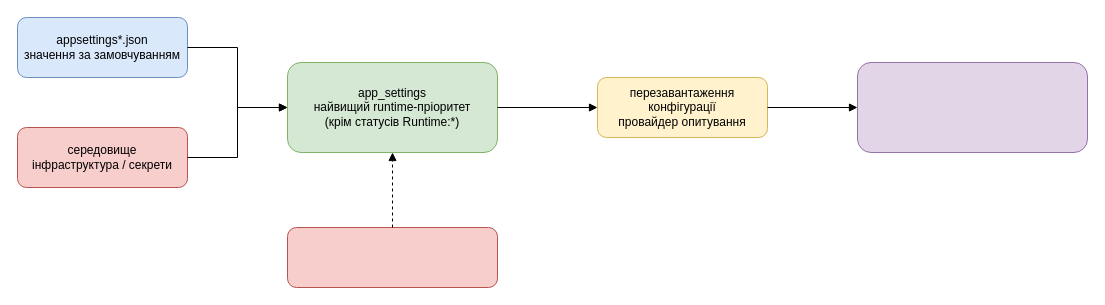
Image size: 1105x305. Some labels were removed from this diagram. Here are the shapes that lost their labels. From the top down, the centre of each, then its label:
At [972,107]: "Worker: параметри + перезапуск колектора API/Admin: ефективні налаштування".
At [392,257]: "Запис admin: ключі з allow-list; секретні значення не повертаються".
